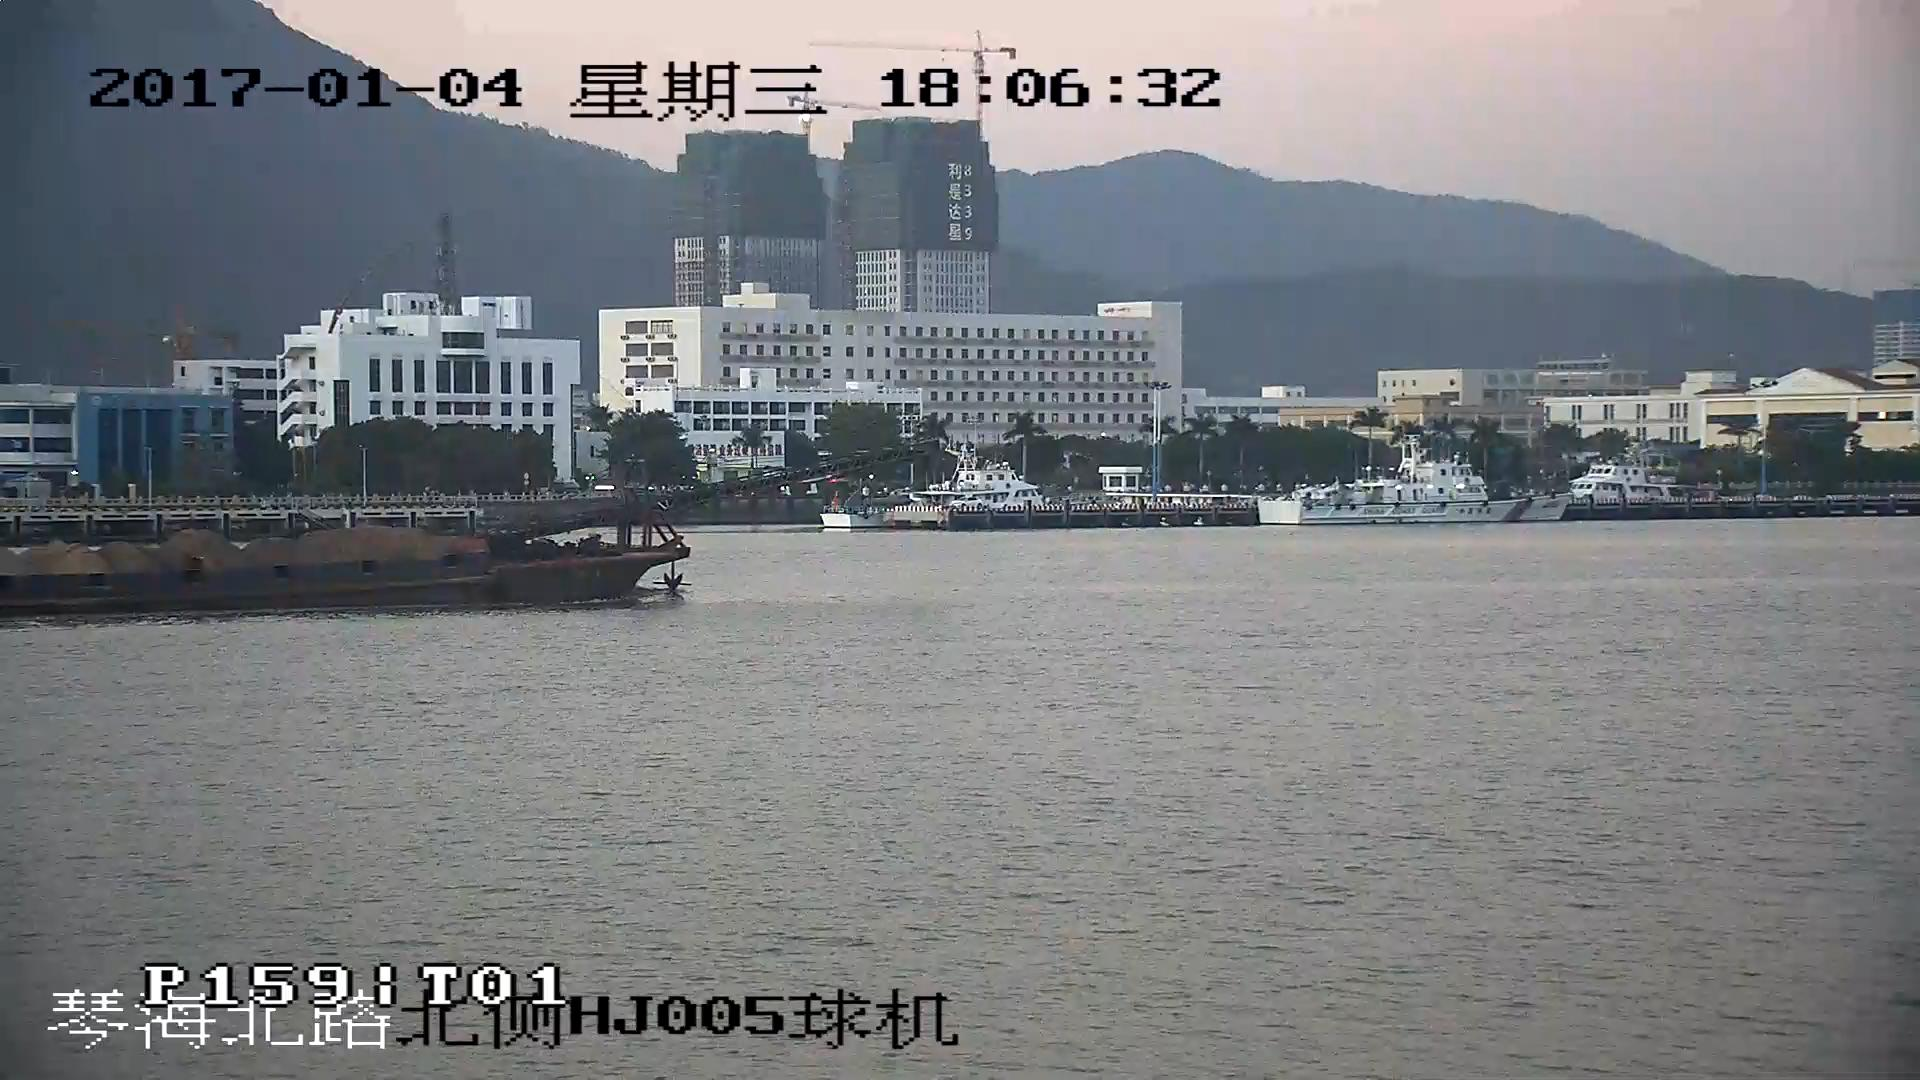ore carrier: (1, 456, 869, 614)
